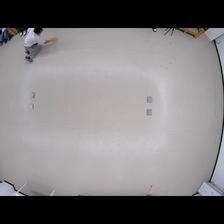fall: (21, 28, 57, 64)
